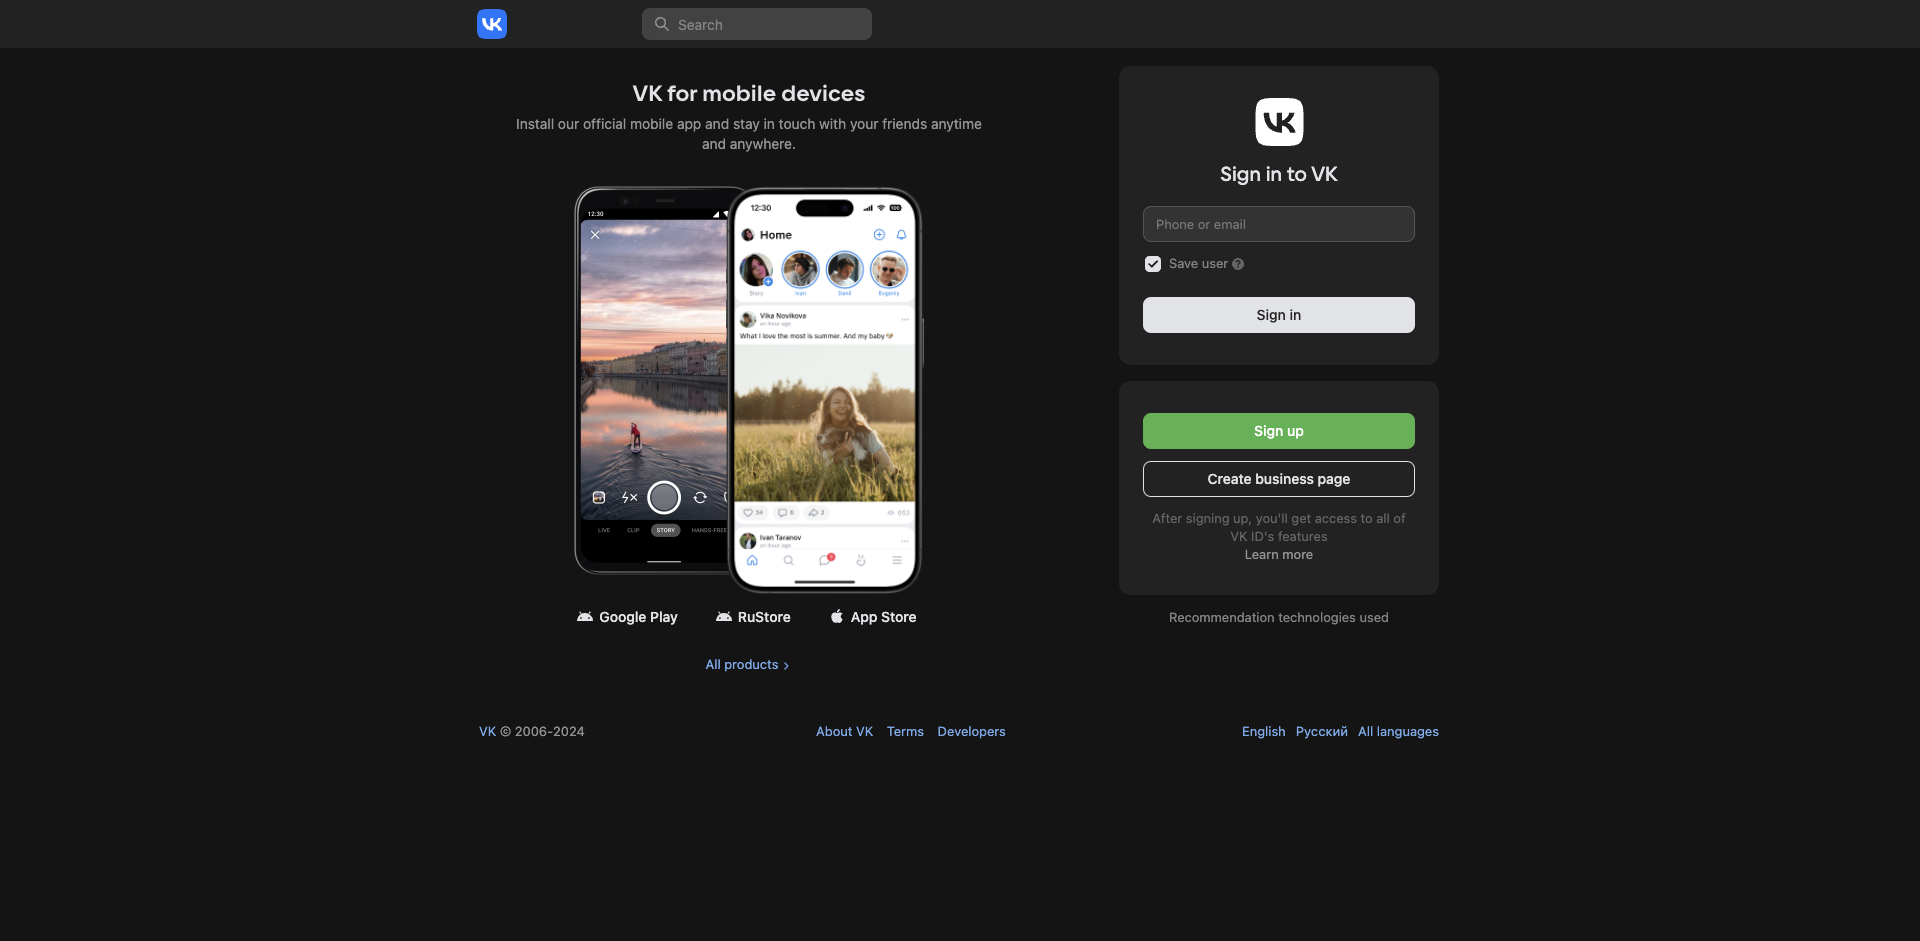button: (1142, 297, 1416, 333), (1142, 461, 1416, 497), (1142, 413, 1416, 448), (566, 602, 694, 633), (817, 602, 933, 633), (704, 602, 807, 633), (705, 657, 792, 671), (872, 9, 909, 40)
checkbox: (1147, 257, 1149, 259)
input: (1142, 206, 1416, 243), (642, 9, 836, 40)
label: (642, 9, 872, 40), (1142, 254, 1228, 277)
link: (726, 186, 924, 591), (574, 186, 757, 591), (478, 0, 642, 48), (566, 602, 694, 633), (817, 602, 933, 633), (1169, 609, 1389, 625), (704, 602, 807, 633), (1353, 720, 1439, 741), (933, 720, 1010, 741), (811, 720, 878, 741), (1291, 720, 1353, 741), (1237, 720, 1291, 741), (1245, 546, 1313, 562), (882, 720, 929, 741), (479, 723, 496, 739), (0, 0, 1, 1)
